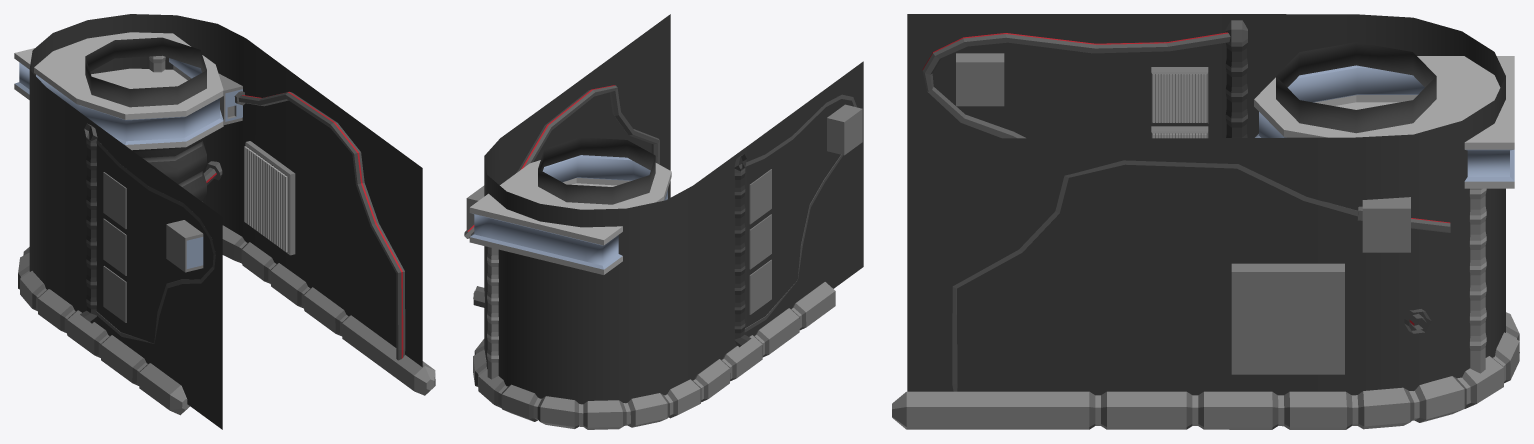
Rendered from PipeStraight00.glb.
3 views of the same model, side by side, from view 1: azimuth 30°, elevation 25°; view 2: azimuth 150°, elevation 25°; view 3: azimuth 270°, elevation 25° (orthographic). The views are drawn at different scales.
Visible parts, largest first — view 1: straight; view 2: straight; view 3: straight.
Part boxes in pixels (x1,y1,x2,y2): straight: (14, 14, 435, 429); straight: (464, 14, 863, 429); straight: (892, 14, 1519, 429).
Size of the model in its own units: 2.27 by 2.15 by 4.19.
1 material, 1 textured.
